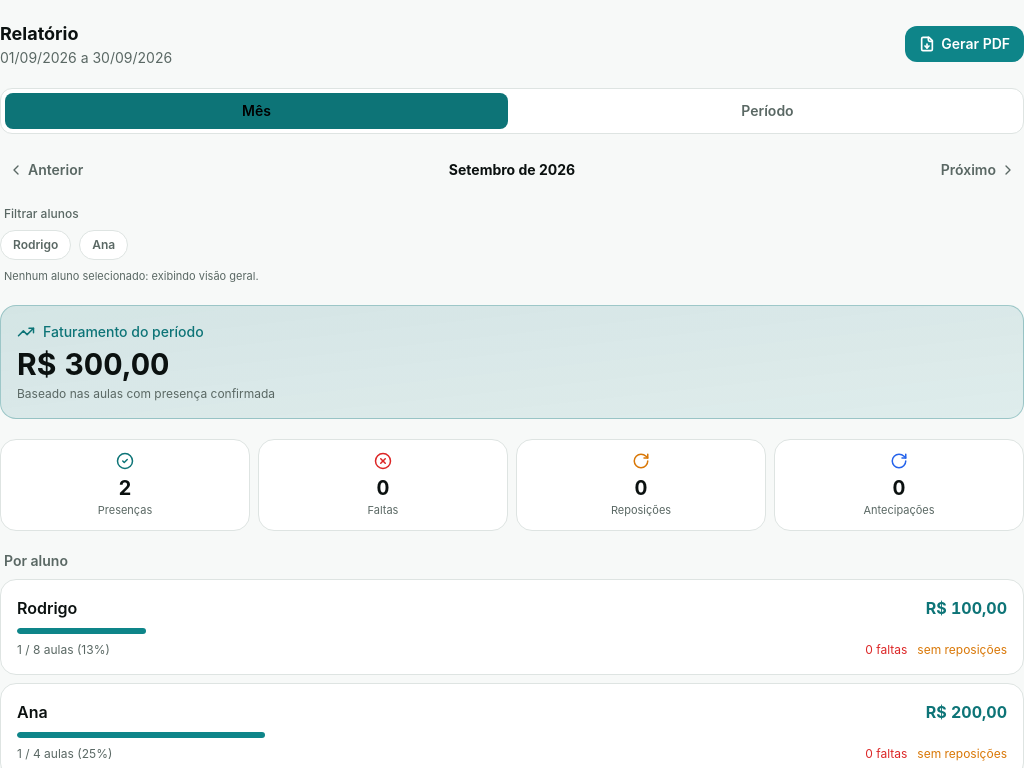
Scenario: RelatoriosView — filtro de alunos › selecionar aluno filtra a visão para exibir apenas seus dados
This screenshot has width=1024, height=768.
Expected: the text "Nenhum aluno selecionado: exibindo visão geral." is shown, [4,269,259,283]
// Filtra por Ana — chips de filtro
Click the button "Ana".
click(104, 245)  # box [79,230,128,260]
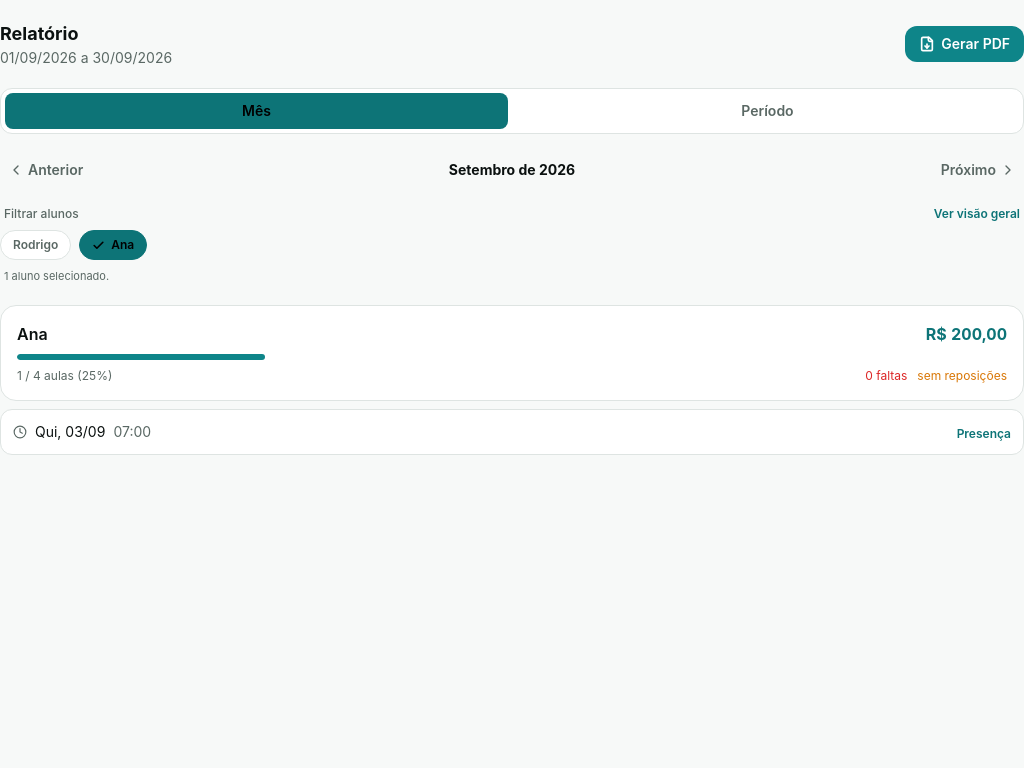
Now the text "1 aluno selecionado." is shown, box [4,269,109,283]
